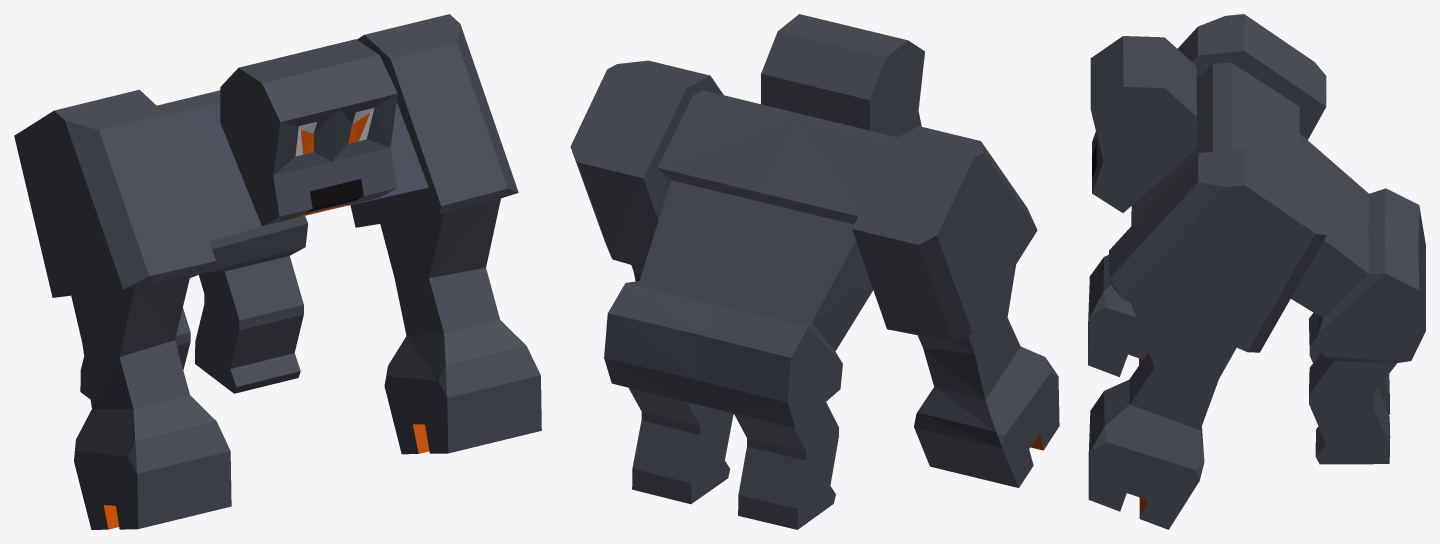
The model's file is kong_000005.obj.
3 renders of one model, left to right at view 1: azimuth 30°, elevation 25°; view 2: azimuth 150°, elevation 25°; view 3: azimuth 270°, elevation 25°, orthographic. The views are drawn at different scales.
Parts seen in each view (by area): view 1: Cube; view 2: Cube; view 3: Cube.
Part boxes in pixels (x1,y1,x2,y2): Cube: [14, 14, 541, 529]; Cube: [570, 14, 1059, 529]; Cube: [1088, 14, 1425, 529].
Size of the model in its own units: 5.84 by 5.91 by 4.75.
1 material, 1 textured.
